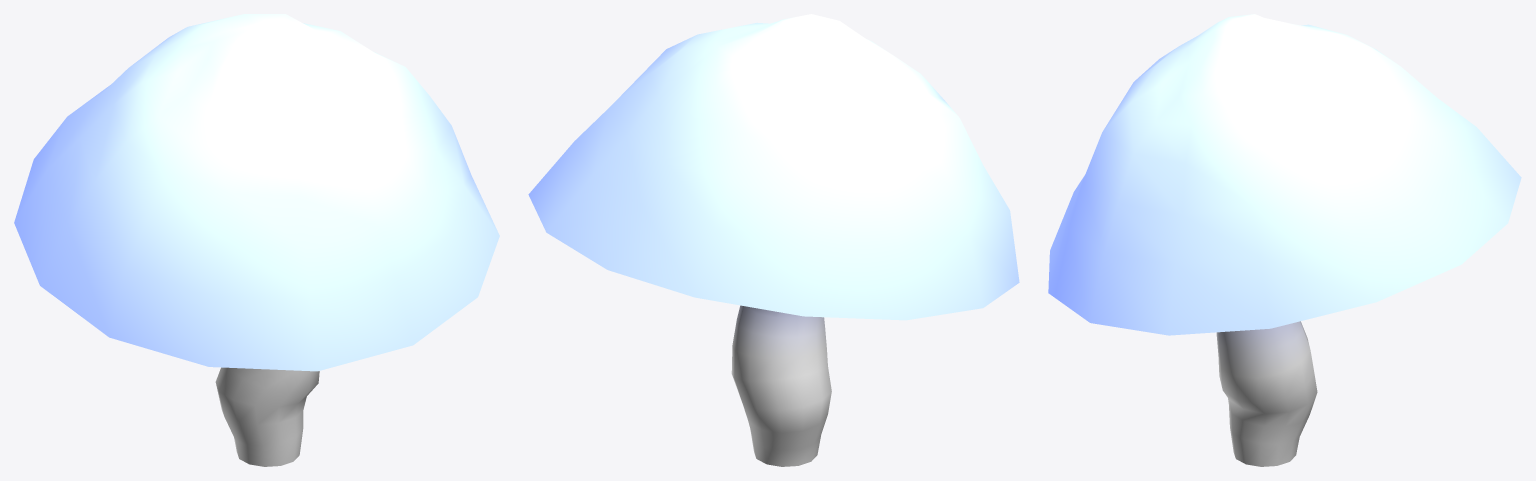
Rendered from mushroom_9.glb.
The picture shows the model from 3 angles, left to right: view 1: azimuth 30°, elevation 25°; view 2: azimuth 150°, elevation 25°; view 3: azimuth 270°, elevation 25°; orthographic projection.
Parts seen in each view (by area): view 1: geo1; view 2: geo1; view 3: geo1.
Boxes of the visible parts, x1=… form: geo1: x1=14, y1=14, x2=499, y2=466; geo1: x1=528, y1=14, x2=1019, y2=466; geo1: x1=1048, y1=14, x2=1521, y2=466.
Bounding box in the file's own units: 0.2841 × 0.2787 × 0.2798.
